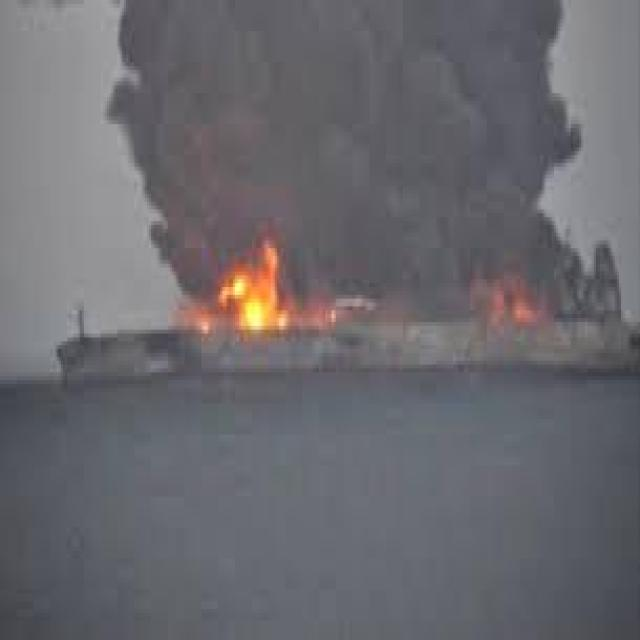fire: (184, 242, 337, 342), (482, 266, 549, 335)
smoke: (113, 4, 594, 268)
